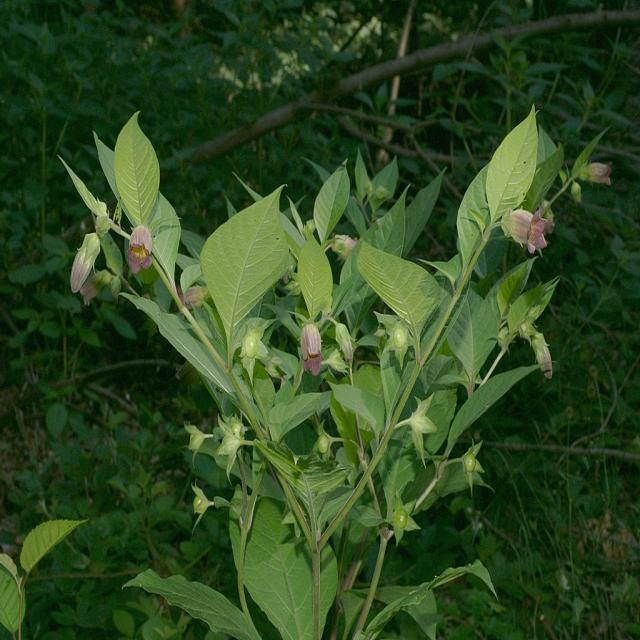Belladonna: (55, 66, 631, 640), (207, 262, 428, 639), (304, 137, 562, 407), (51, 129, 255, 404)
